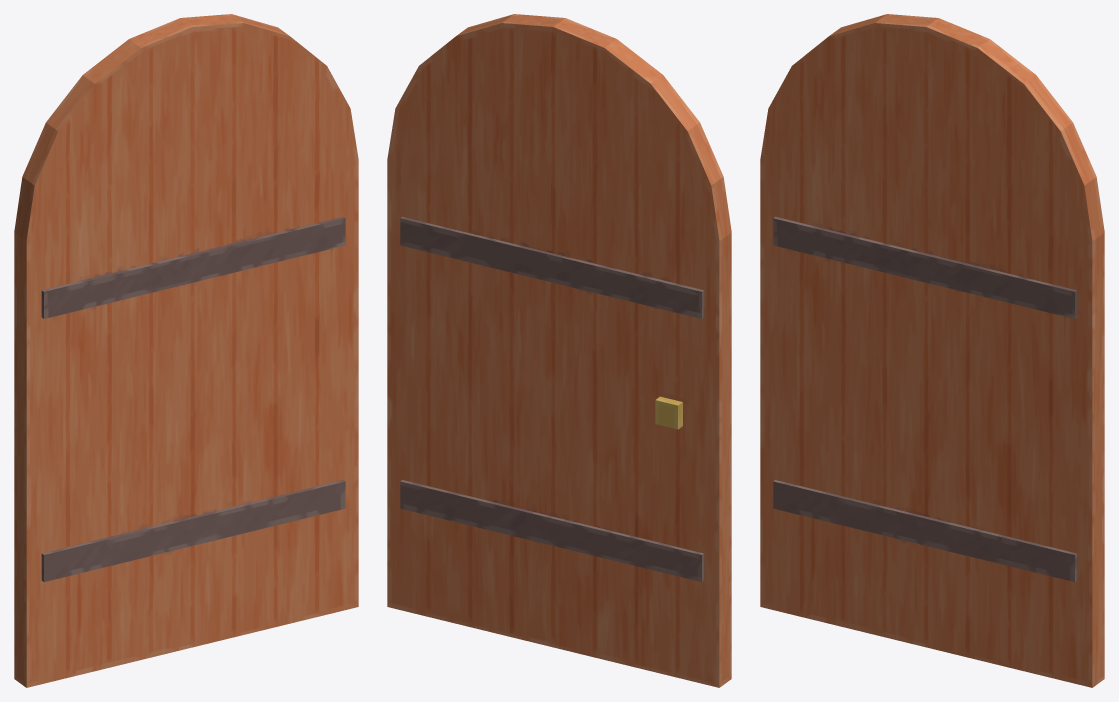
Rendered from door2_wood.fbx.
3 renders of one model, left to right at view 1: azimuth 30°, elevation 25°; view 2: azimuth 150°, elevation 25°; view 3: azimuth 330°, elevation 25°, orthographic.
Parts seen in each view (by area): view 1: door2_wood; view 2: door2_wood; view 3: door2_wood.
Boxes of the visible parts, x1,y1,x2,y2 form: door2_wood: [14, 14, 358, 687]; door2_wood: [387, 14, 731, 687]; door2_wood: [760, 14, 1104, 687].
Size of the model in its own units: 4.36 by 7.78 by 0.49.
1 material, 1 textured.
